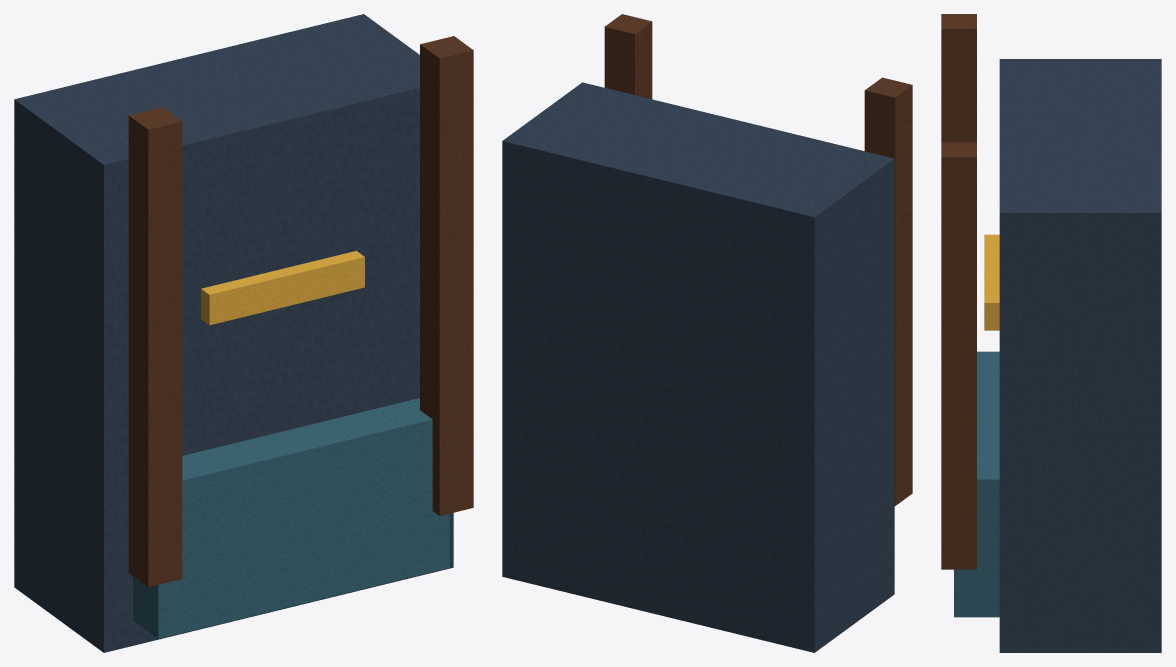
File: utility_pack.gltf
3 renders of one model, left to right at view 1: azimuth 30°, elevation 25°; view 2: azimuth 150°, elevation 25°; view 3: azimuth 270°, elevation 25°, orthographic. The views are drawn at different scales.
Visible parts, largest first — view 1: Campus Utility Pack; view 2: Campus Utility Pack; view 3: Campus Utility Pack.
Part boxes in pixels (x1,y1,x2,y2): Campus Utility Pack: (14, 14, 473, 652); Campus Utility Pack: (502, 14, 912, 652); Campus Utility Pack: (941, 14, 1161, 652).
Size of the model in its own units: 0.36 by 0.535 by 0.2175.
4 materials, 4 textured.
